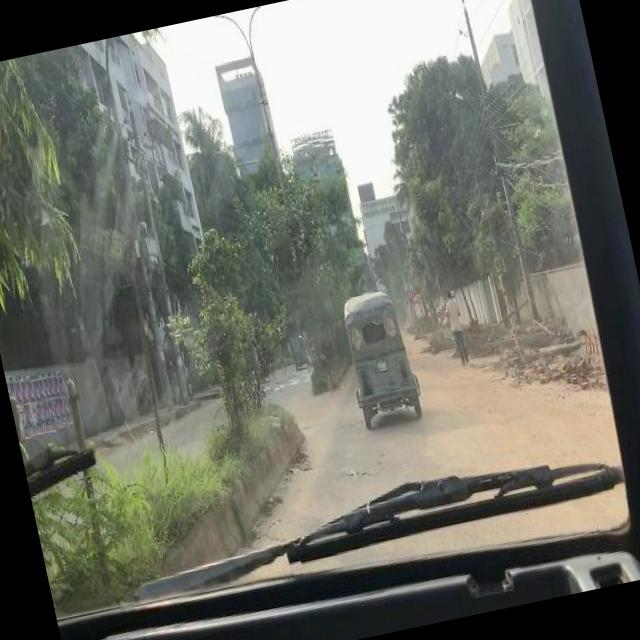motorcycle: (335, 280, 426, 427), (288, 333, 310, 369)
